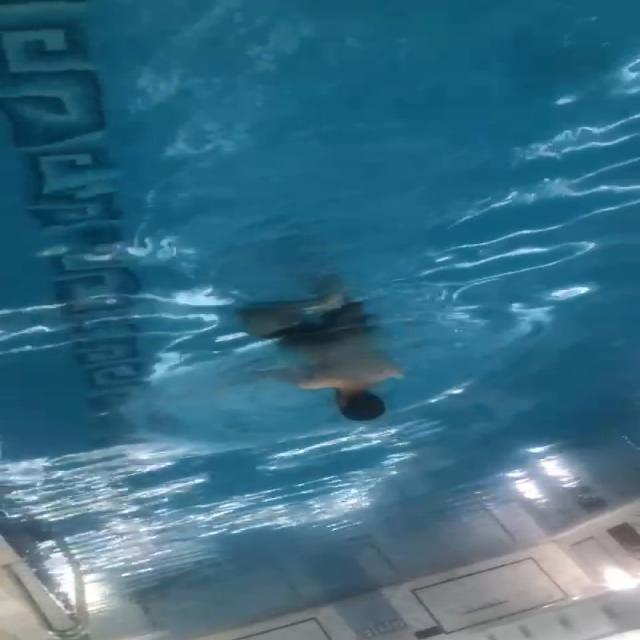Swimming: (237, 276, 400, 422)
